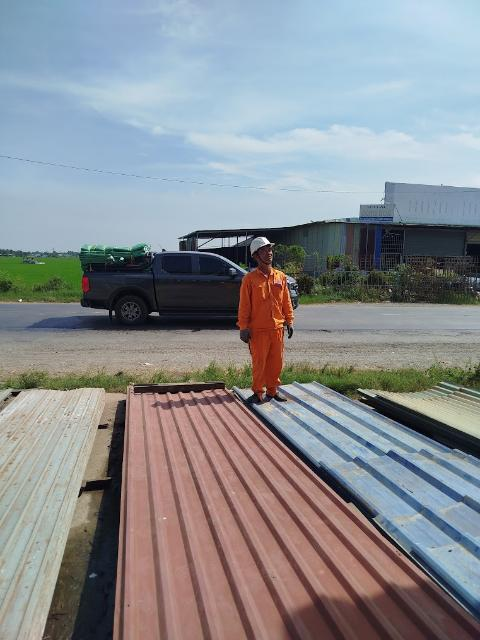gloves: (235, 323, 256, 352), (281, 316, 298, 338)
helmet: (252, 230, 288, 262)
shoes: (268, 383, 299, 405), (246, 383, 266, 414)
